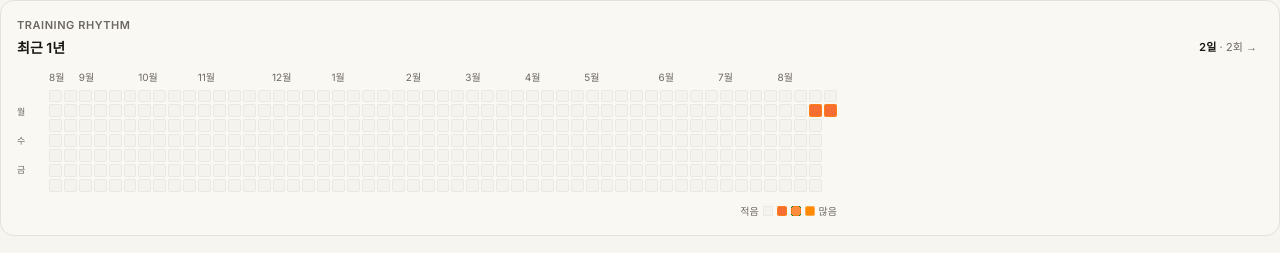
Scenario: TrainingHeatmap › renders a left-aligned GitHub-style year with month labels and hover detail
The image size is (1280, 253).
Expected: the text with test id "heatmap-month-2025-09" reads "9월", [79,70,94,82]
Hover over the button titled "2026-08-10 · 1회" at (816, 111), box [809,104,822,117]
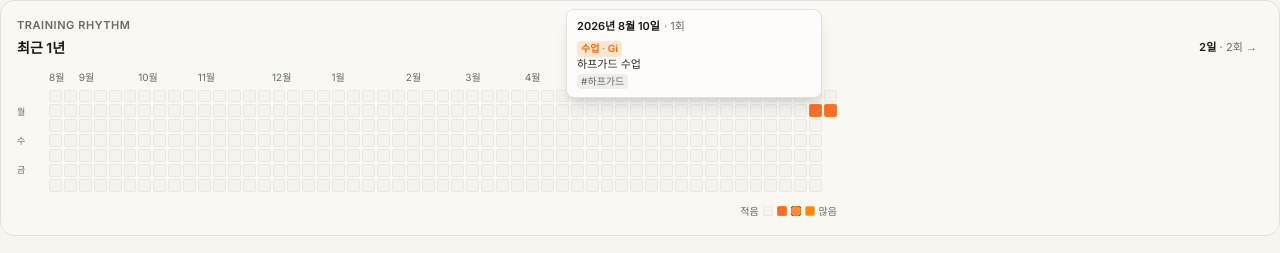
Now the tooltip shows "2026년 8월 10일", box [577,19,660,33]
Now the tooltip shows "수업 · Gi", box [566,9,822,98]
Now the tooltip shows "하프가드 수업", box [577,56,641,70]
Move the pointer off the button titled "2026-08-10 · 1회", box [809,104,822,117]
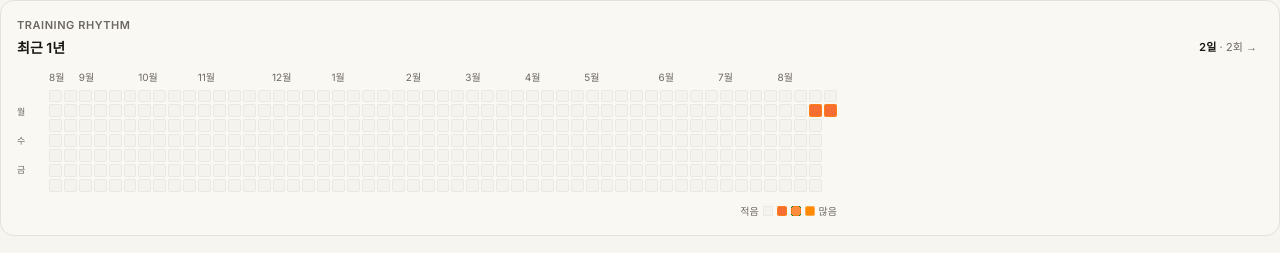
Now the tooltip "2026년 8월 10일· 1회 수업 · Gi 하프가드 수업 #하프가드" is gone
